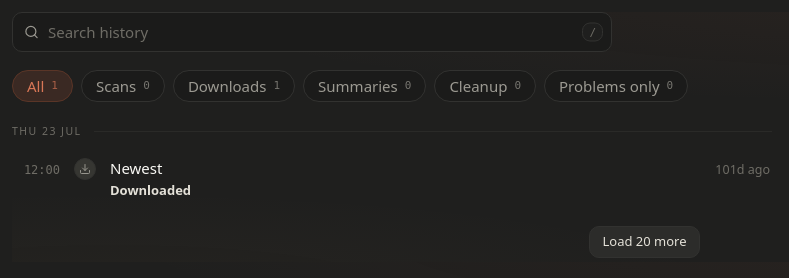
Scenario: History › pages back from the oldest row it holds
Expected: the text "Newest" is shown, [110,158,162,178]
What coordinates should you click on to do the following:
click the button "Load 20 more"
I would click on:
 (645, 242)
Its box is [590,226,700,258].
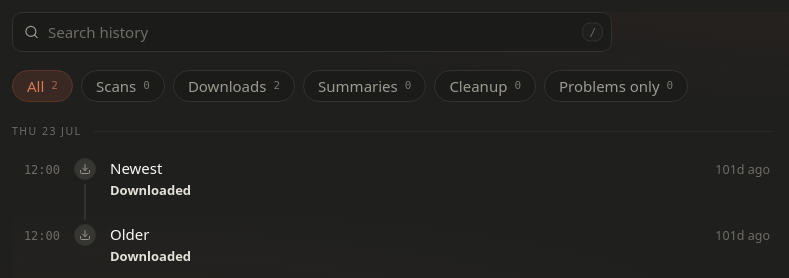
Expected: the text "Newest" is shown, [110,158,162,178]
Now the text "Older" is shown, box [110,224,150,244]
Now the button "Load 20 more" is gone
